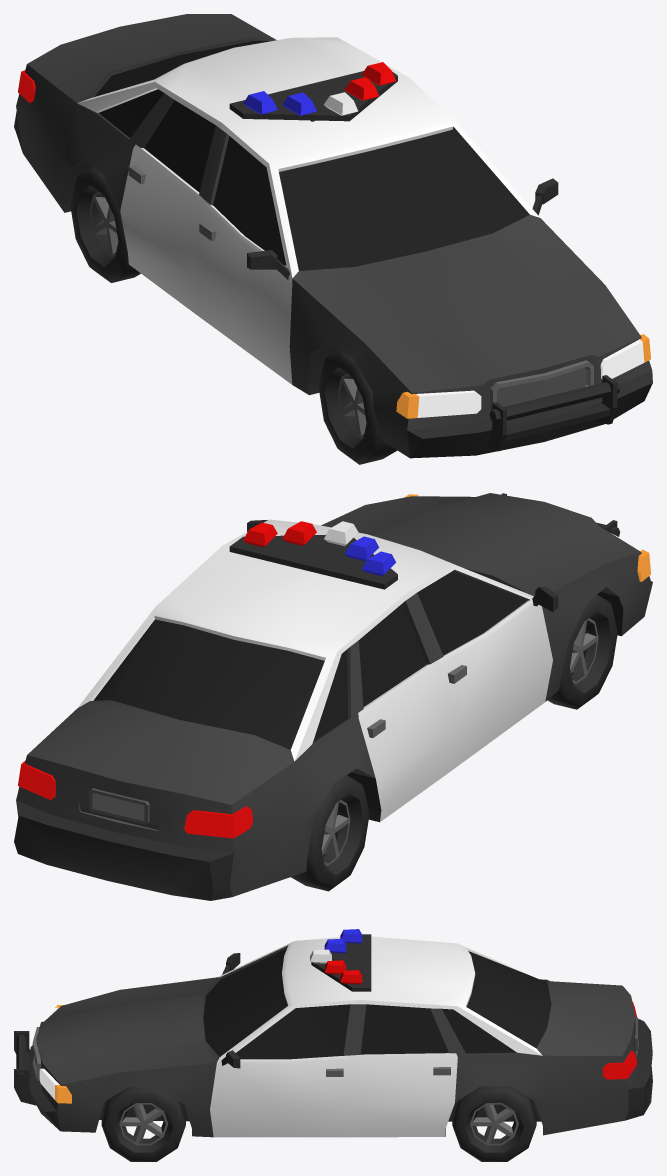
The model's file is police.glb.
The picture shows the model from 3 angles, top to bottom: view 1: azimuth 30°, elevation 25°; view 2: azimuth 150°, elevation 25°; view 3: azimuth 270°, elevation 25°; orthographic projection. The views are drawn at different scales.
Visible parts, largest first — view 1: police, wheels.028, wheels.029; view 2: police, wheels.029, wheels.028; view 3: police, wheels.030, wheels.031.
Boxes of the visible parts, x1,y1,x2,y2 form: police: [14, 14, 652, 458]; wheels.028: [318, 350, 397, 464]; wheels.029: [70, 167, 140, 282]; police: [14, 493, 652, 900]; wheels.029: [291, 775, 369, 891]; wheels.028: [547, 595, 617, 709]; police: [14, 929, 652, 1137]; wheels.030: [452, 1086, 536, 1161]; wheels.031: [101, 1087, 185, 1161].
Size of the model in its own units: 2.25 by 1.67 by 5.72.
Materials: 4 (4 with a texture image).
